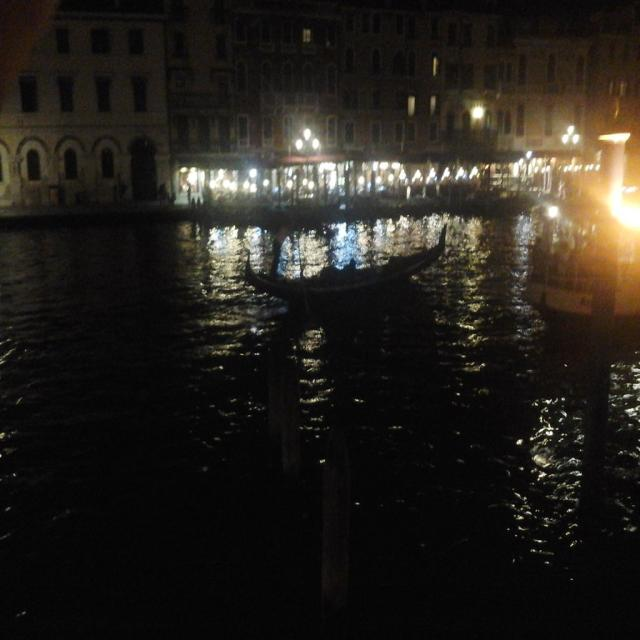Boat: (220, 188, 487, 333), (498, 173, 640, 329)
